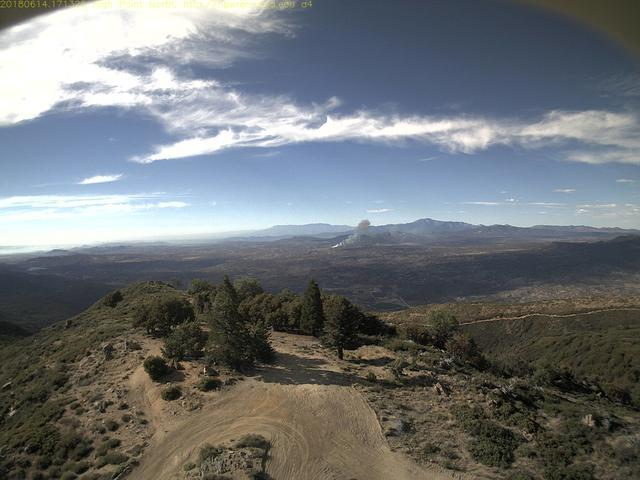smoke: (327, 218, 378, 254)
